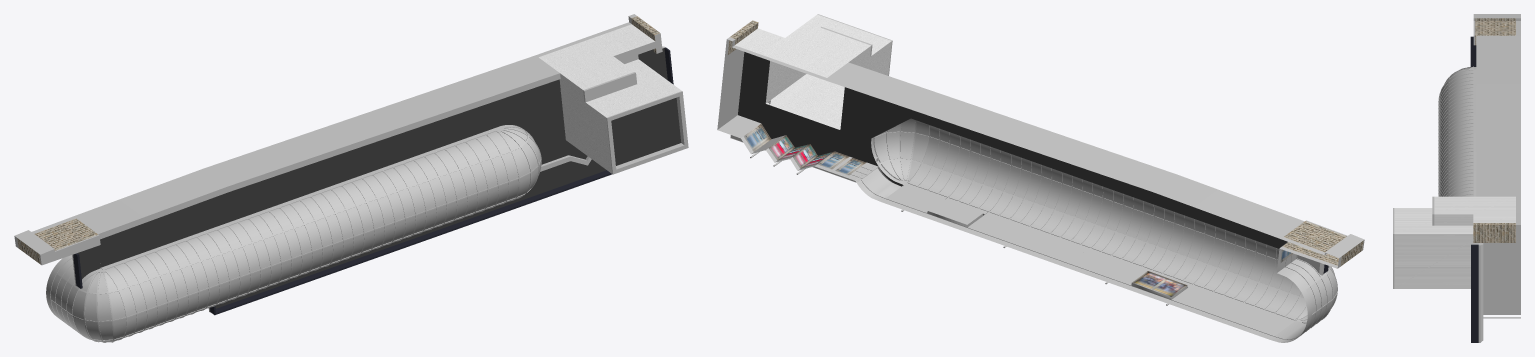
The model's file is Viru_27a.obj.
The picture shows the model from 3 angles, left to right: view 1: azimuth 30°, elevation 25°; view 2: azimuth 150°, elevation 25°; view 3: azimuth 270°, elevation 25°; orthographic projection. The views are drawn at different scales.
Parts seen in each view (by area): view 1: Viru_27a; view 2: Viru_27a; view 3: Viru_27a.
Part boxes in pixels (<box>): Viru_27a: <box>14,14,688,342</box>; Viru_27a: <box>717,14,1364,342</box>; Viru_27a: <box>1393,14,1520,342</box>.
Size of the model in its own units: 46.1 by 11.89 by 8.8.
